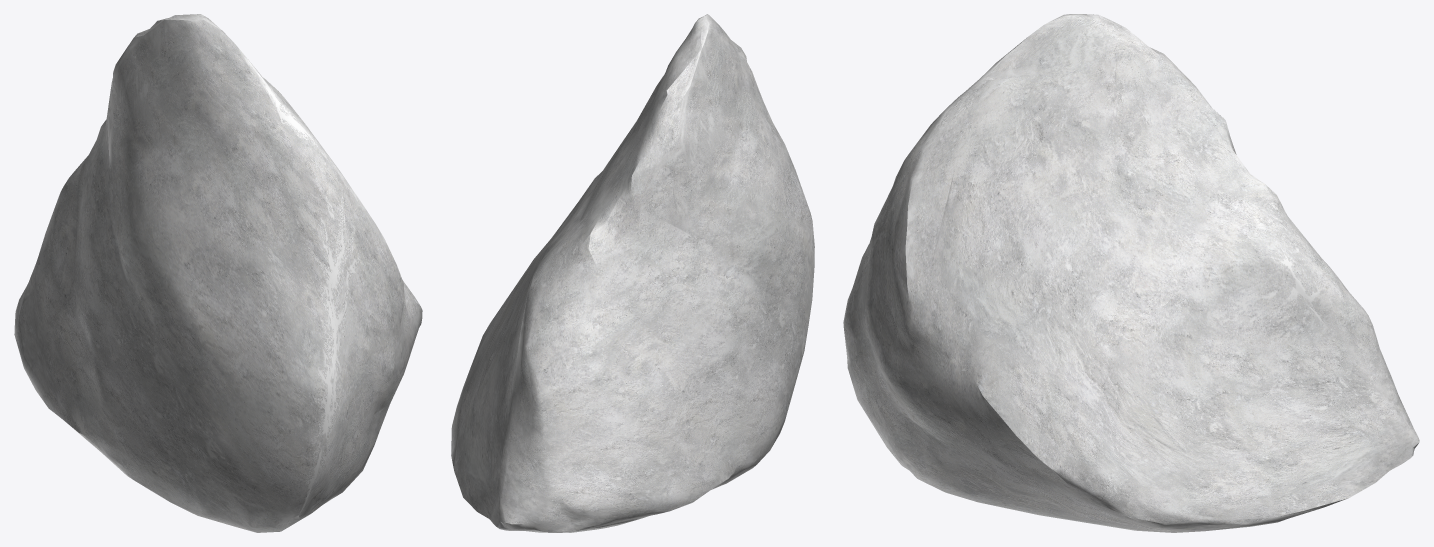
Rendered from rock_00E.fbx.
3 views of the same model, side by side, from view 1: azimuth 30°, elevation 25°; view 2: azimuth 150°, elevation 25°; view 3: azimuth 270°, elevation 25° (orthographic). The views are drawn at different scales.
Parts seen in each view (by area): view 1: rock_00E; view 2: rock_00E; view 3: rock_00E.
Part boxes in pixels (bbox=[...]): rock_00E: bbox=[14, 14, 422, 532]; rock_00E: bbox=[451, 14, 814, 532]; rock_00E: bbox=[843, 14, 1419, 532].
Bounding box in the file's own units: 154 × 237 × 267.
